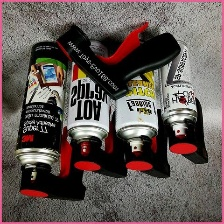aerosol_cans: (10, 37, 71, 182), (65, 36, 112, 157), (112, 45, 160, 154), (153, 37, 198, 141)
